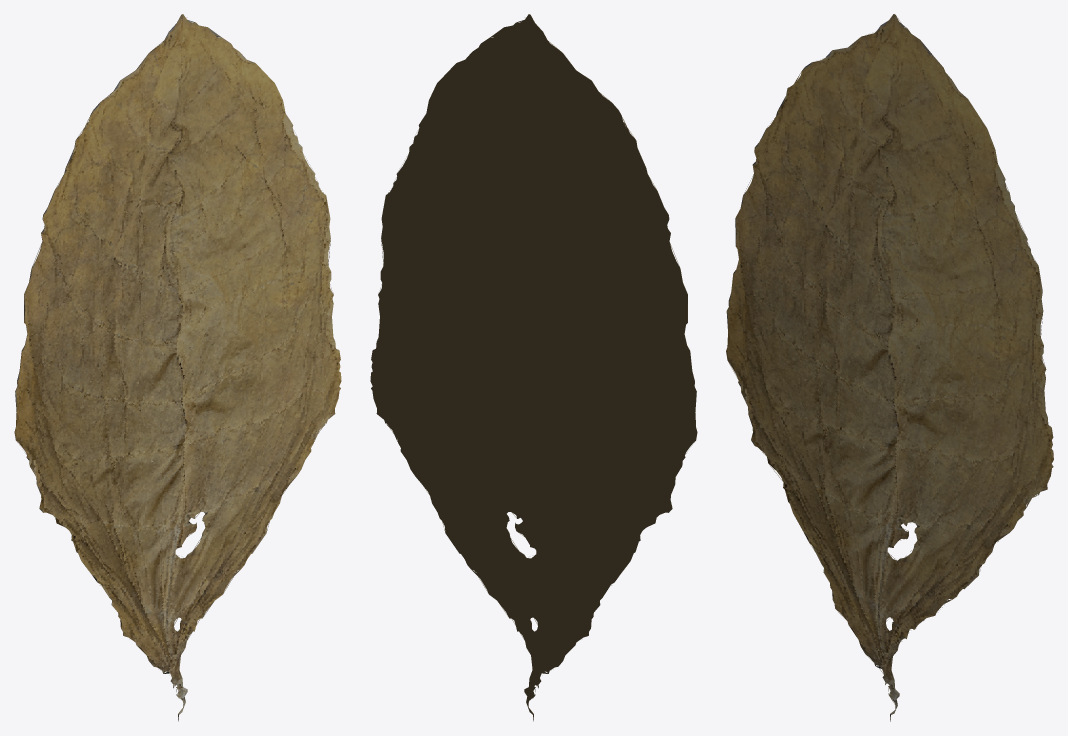
File: 20260911_155509134_iOS.obj
3 renders of one model, left to right at view 1: azimuth 30°, elevation 25°; view 2: azimuth 150°, elevation 25°; view 3: azimuth 330°, elevation 25°, orthographic.
Visible parts, largest first — view 1: 20260911_155509134_iOS; view 2: 20260911_155509134_iOS; view 3: 20260911_155509134_iOS.
Boxes of the visible parts, x1,y1,x2,y2 form: 20260911_155509134_iOS: (14, 14, 341, 721); 20260911_155509134_iOS: (370, 14, 697, 721); 20260911_155509134_iOS: (726, 14, 1053, 721).
Size of the model in its own units: 233 by 481 by 0.3.
